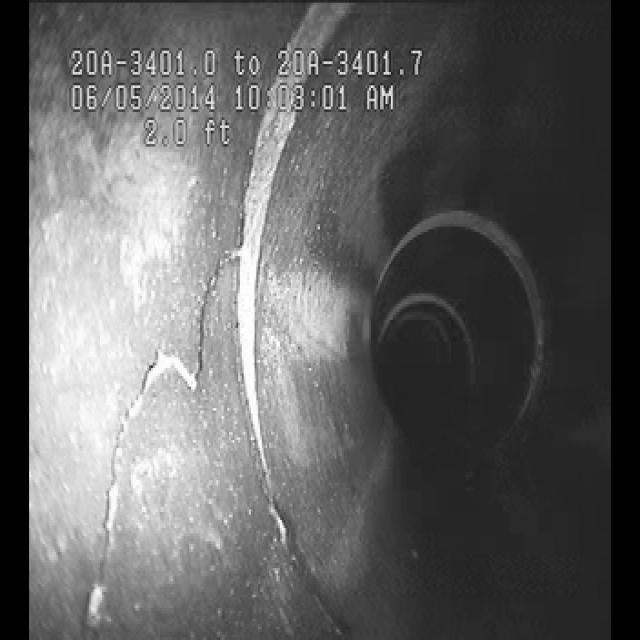Crack: (78, 254, 226, 582)
